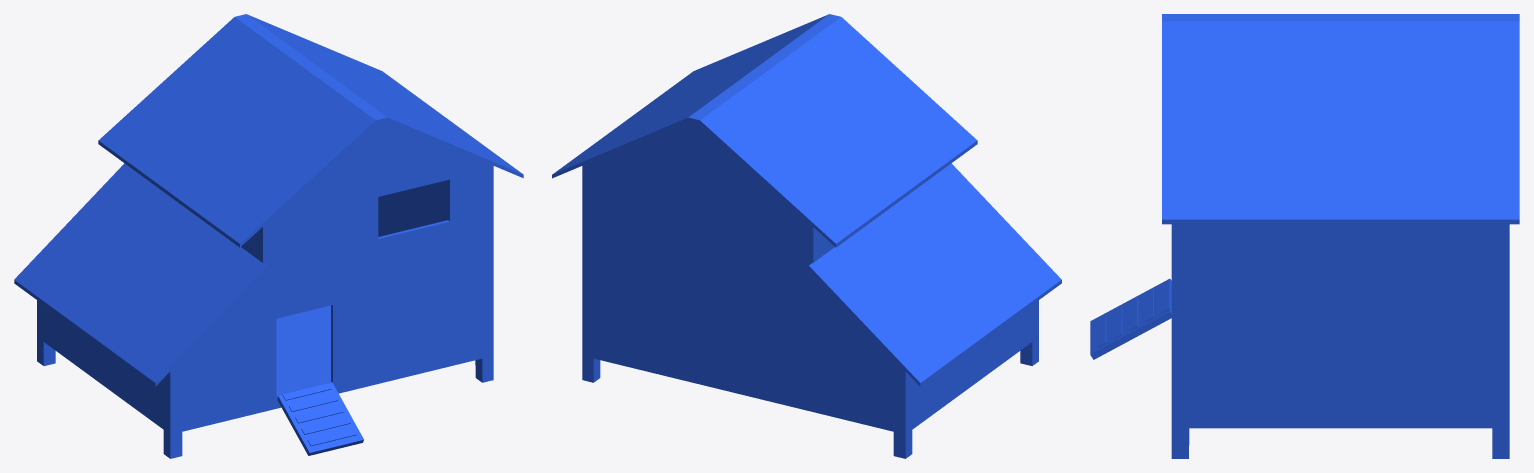
File: Casa Gallina.FBX
3 renders of one model, left to right at view 1: azimuth 30°, elevation 25°; view 2: azimuth 150°, elevation 25°; view 3: azimuth 270°, elevation 25°, orthographic. The views are drawn at different scales.
Parts seen in each view (by area): view 1: Casa Gallina; view 2: Casa Gallina; view 3: Casa Gallina.
Boxes of the visible parts, x1,y1,x2,y2 form: Casa Gallina: (14,14,523,458); Casa Gallina: (552,14,1061,458); Casa Gallina: (1090,14,1519,458).
Size of the model in its own units: 160 by 122 by 128.
